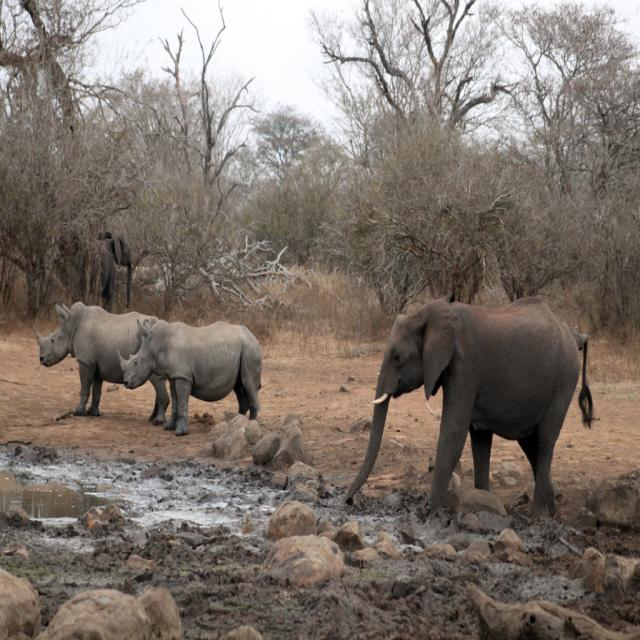Elephant: (342, 297, 600, 518), (116, 321, 267, 441), (28, 303, 162, 422)
